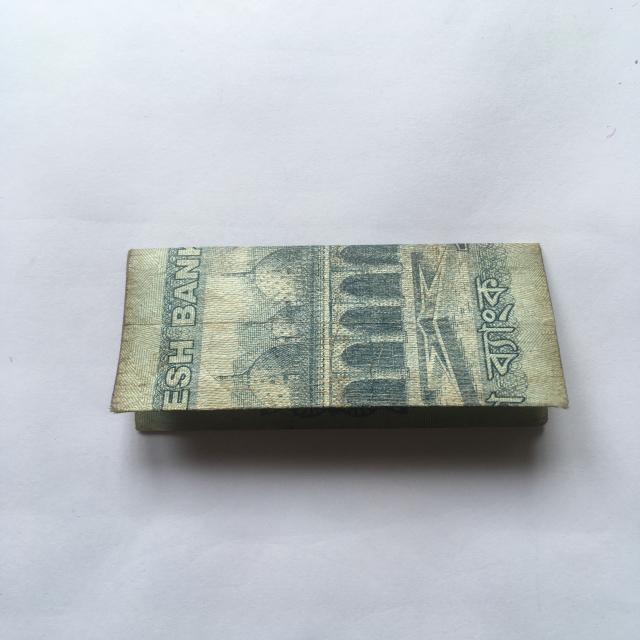Taka: (103, 234, 583, 429)
